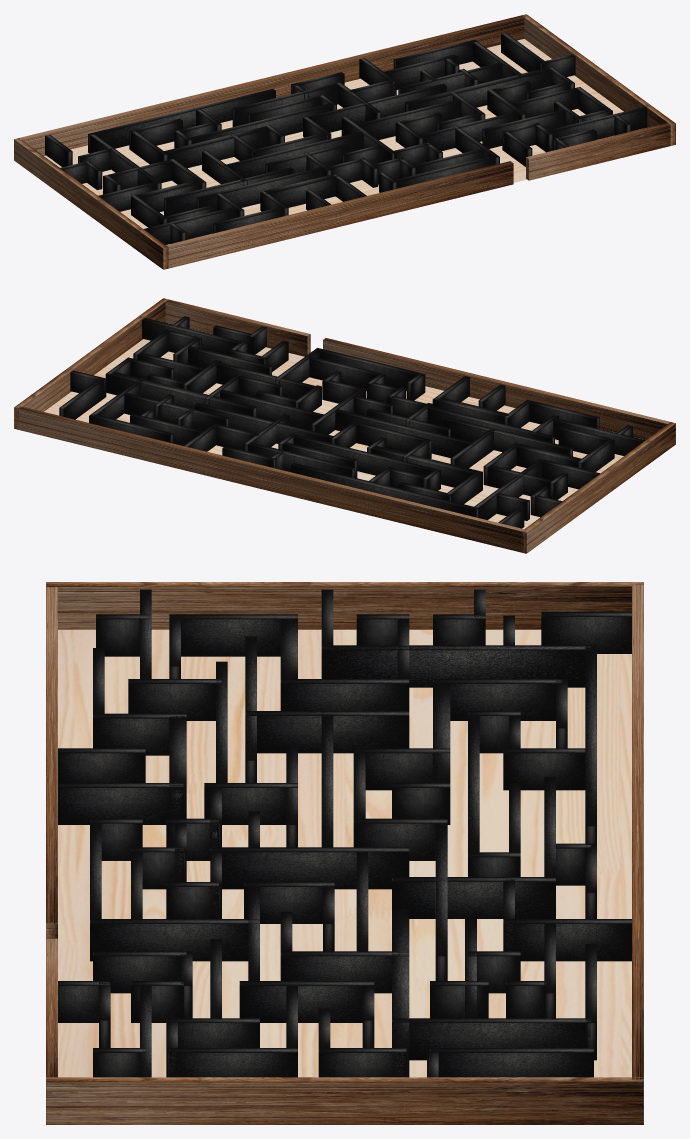
The model's file is maze.glb.
3 renders of one model, top to bottom at view 1: azimuth 30°, elevation 25°; view 2: azimuth 150°, elevation 25°; view 3: azimuth 270°, elevation 25°, orthographic. The views are drawn at different scales.
Parts seen in each view (by area): view 1: Mesh_0, Mesh_2, Mesh_100, Mesh_3, Mesh_1, Mesh_4, Mesh_10, Mesh_77, Mesh_80, Mesh_73, Mesh_63, Mesh_70 (+55 smaller); view 2: Mesh_2, Mesh_0, Mesh_100, Mesh_3, Mesh_4, Mesh_1, Mesh_80, Mesh_10, Mesh_72, Mesh_70, Mesh_62, Mesh_79 (+59 smaller); view 3: Mesh_100, Mesh_4, Mesh_3, Mesh_18, Mesh_17, Mesh_2, Mesh_9, Mesh_23, Mesh_16, Mesh_37, Mesh_46, Mesh_5 (+68 smaller).
Part boxes in pixels (box(x1,y1,x2,y2)): Mesh_0: box(166, 161, 513, 268); Mesh_2: box(17, 15, 526, 155); Mesh_100: box(44, 39, 642, 244); Mesh_3: box(14, 138, 168, 269); Mesh_1: box(526, 122, 670, 180); Mesh_4: box(523, 14, 675, 145); Mesh_10: box(88, 89, 275, 153); Mesh_77: box(307, 83, 446, 132); Mesh_80: box(405, 66, 554, 112); Mesh_73: box(164, 126, 269, 168); Mesh_63: box(196, 167, 325, 210); Mesh_70: box(224, 132, 363, 178); Mesh_2: box(16, 406, 526, 552); Mesh_0: box(323, 338, 670, 439); Mesh_100: box(44, 323, 642, 528); Mesh_3: box(521, 422, 675, 553); Mesh_4: box(14, 298, 167, 429); Mesh_1: box(165, 299, 310, 356); Mesh_80: box(105, 371, 256, 417); Mesh_10: box(291, 463, 478, 517); Mesh_72: box(291, 434, 435, 476); Mesh_70: box(335, 409, 472, 457); Mesh_62: box(443, 417, 572, 456); Mesh_79: box(124, 393, 228, 430); Mesh_100: box(58, 629, 631, 1077); Mesh_4: box(46, 1077, 643, 1124); Mesh_3: box(46, 582, 643, 629); Mesh_18: box(321, 645, 590, 687); Mesh_17: box(210, 847, 409, 889); Mesh_2: box(632, 584, 643, 1079); Mesh_9: box(392, 877, 555, 918); Mesh_23: box(245, 711, 409, 753); Mesh_16: box(392, 1018, 590, 1060); Mesh_37: box(90, 919, 259, 961); Mesh_46: box(58, 783, 183, 824); Mesh_5: box(503, 919, 631, 961).
Bounding box in the file's own units: 202 × 8 × 102.
3 materials, 3 textured.
